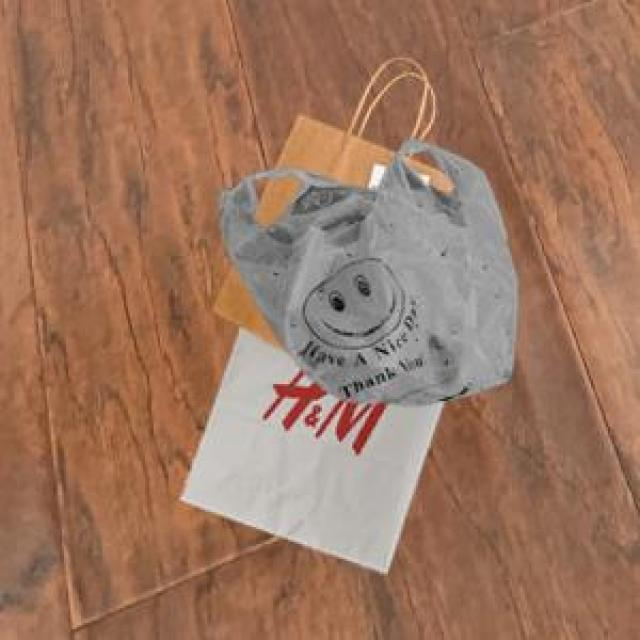paper: (209, 73, 450, 346), (177, 322, 440, 570)
